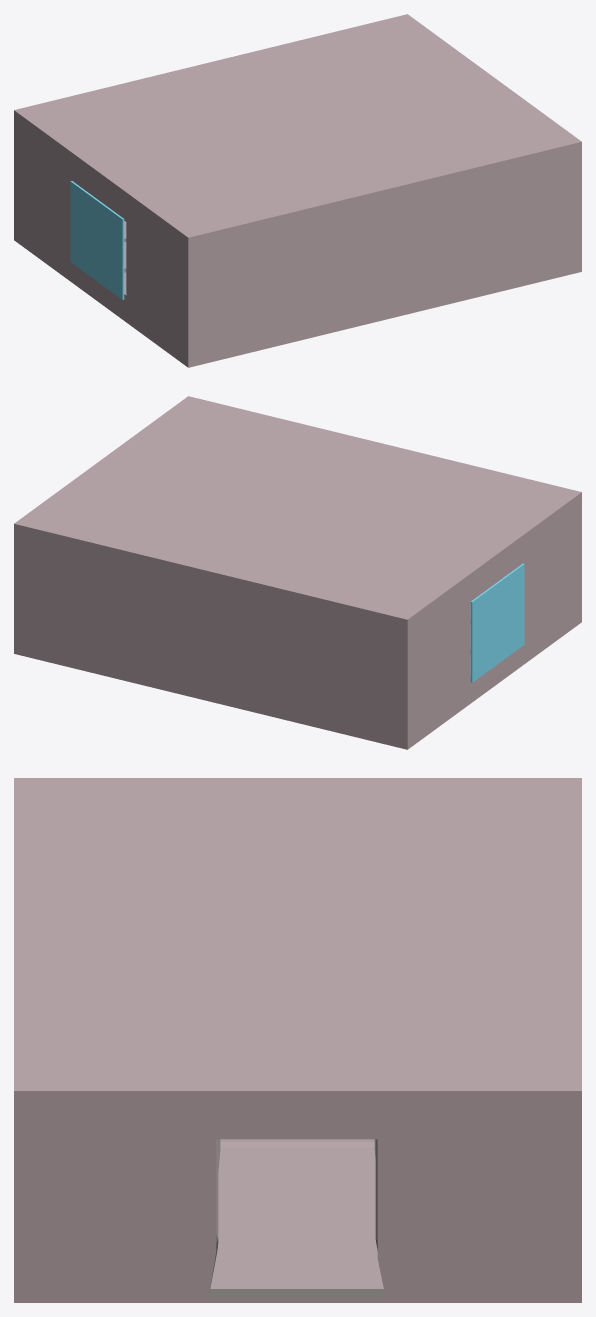
The model's file is StartRoom.fbx.
The picture shows the model from 3 angles, top to bottom: view 1: azimuth 30°, elevation 25°; view 2: azimuth 150°, elevation 25°; view 3: azimuth 270°, elevation 25°; orthographic projection. The views are drawn at different scales.
Parts seen in each view (by area): view 1: Cube, Cube.001; view 2: Cube, Cube.001; view 3: Cube.
Boxes of the visible parts, <box> form: Cube: <box>14,14,581,367</box>; Cube.001: <box>70,181,124,299</box>; Cube: <box>14,396,581,749</box>; Cube.001: <box>470,563,524,682</box>; Cube: <box>14,778,581,1302</box>.
Bounding box in the file's own units: 9895 × 3092 × 7513.
